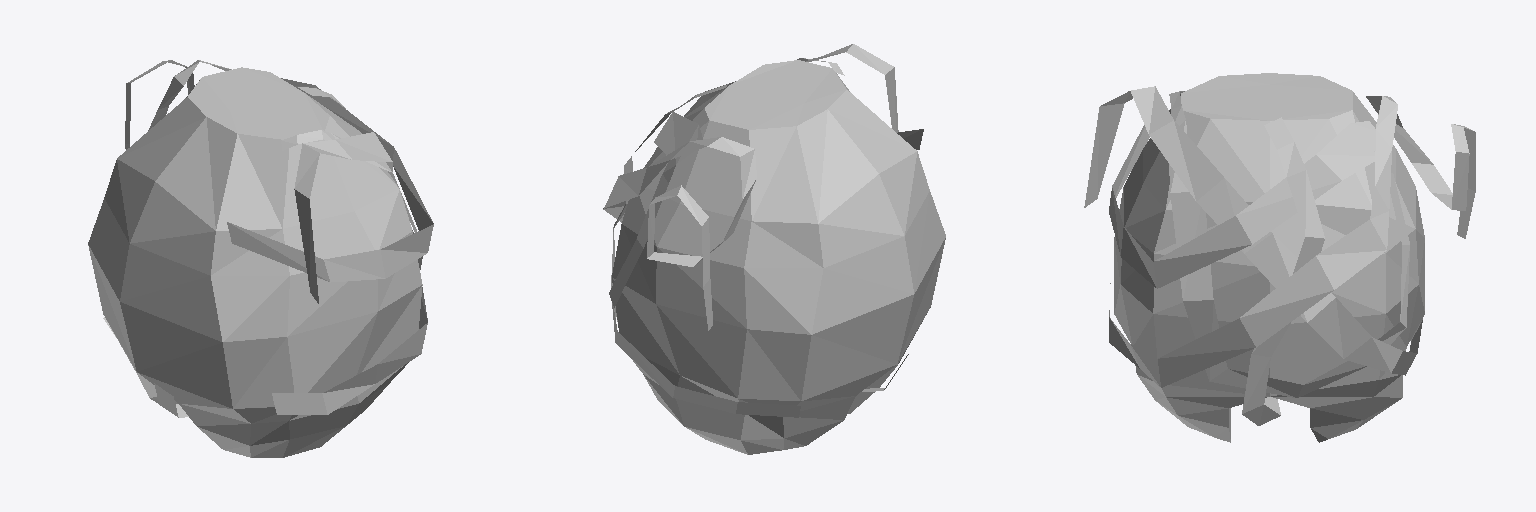
Rendered from ropaMomia.obj.
The picture shows the model from 3 angles: view 1: azimuth 30°, elevation 25°; view 2: azimuth 150°, elevation 25°; view 3: azimuth 270°, elevation 25°; orthographic projection.
Parts seen in each view (by area): view 1: momiaTraje, momiaCintas; view 2: momiaTraje, momiaCintas; view 3: momiaCintas, momiaTraje.
Boxes of the visible parts, box(x1,y1,x2,y2) form: momiaTraje: box(88, 67, 422, 457); momiaCintas: box(103, 60, 433, 417); momiaTraje: box(612, 60, 945, 454); momiaCintas: box(603, 44, 923, 417); momiaCintas: box(1084, 86, 1475, 425); momiaTraje: box(1114, 73, 1424, 442).
Bounding box in the file's own units: 1.76 × 1.93 × 2.11.